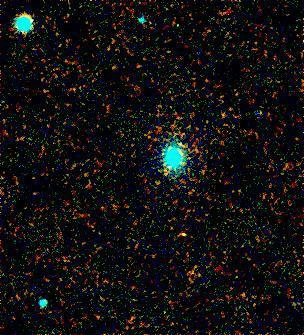star: (168, 219, 198, 249)
